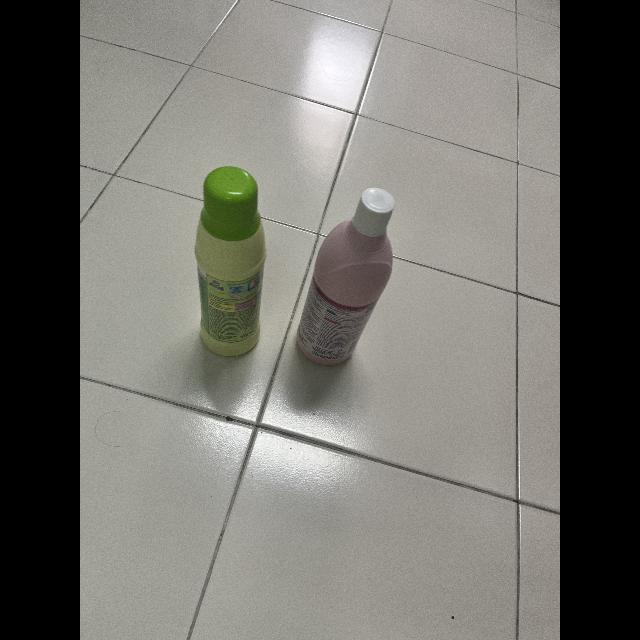chemical_plastic_bottle: (296, 184, 406, 368), (186, 166, 274, 360)
